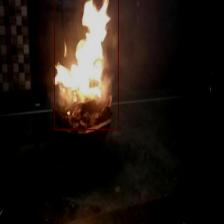fire: (54, 0, 118, 130)
